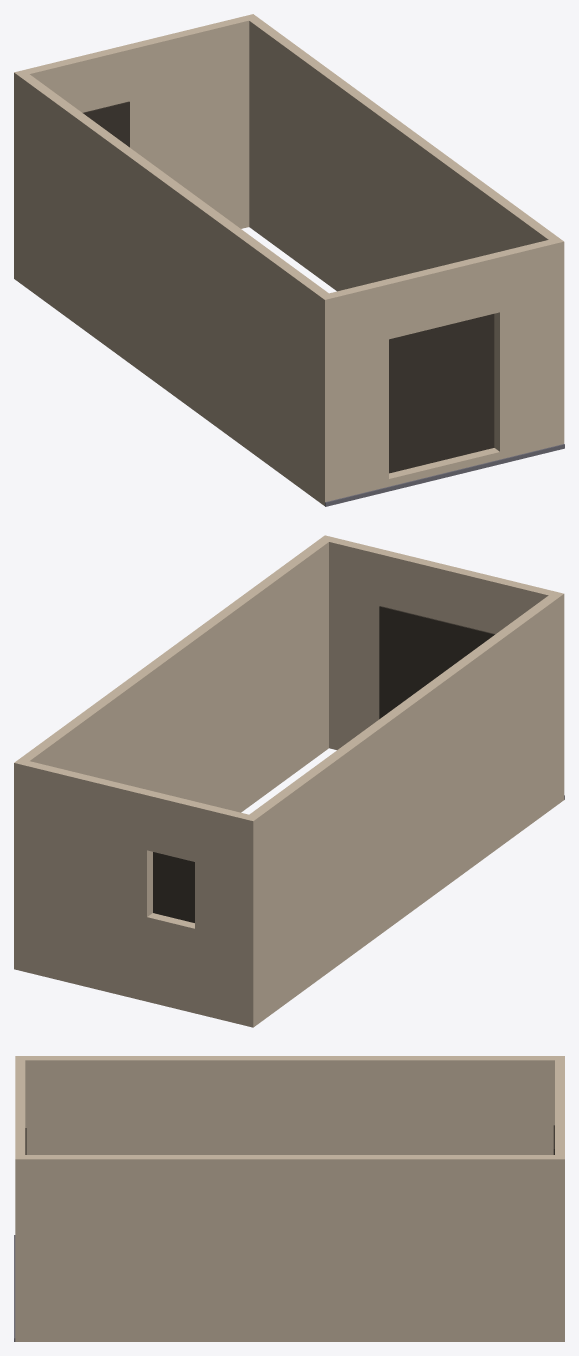
File: SM_Floor_NarrowUpperBalcony_Cream_364_Back_01.gltf
3 renders of one model, top to bottom at view 1: azimuth 30°, elevation 25°; view 2: azimuth 150°, elevation 25°; view 3: azimuth 270°, elevation 25°, orthographic. The views are drawn at different scales.
Visible parts, largest first — view 1: SM_Floor_NarrowUpperBalcony_Cream_364_Back_01; view 2: SM_Floor_NarrowUpperBalcony_Cream_364_Back_01; view 3: SM_Floor_NarrowUpperBalcony_Cream_364_Back_01.
Part boxes in pixels (x1=…): SM_Floor_NarrowUpperBalcony_Cream_364_Back_01: x1=14, y1=14, x2=564, y2=506; SM_Floor_NarrowUpperBalcony_Cream_364_Back_01: x1=14, y1=535, x2=564, y2=1027; SM_Floor_NarrowUpperBalcony_Cream_364_Back_01: x1=14, y1=1056, x2=564, y2=1341.
Bounding box in the file's own units: 3.64 × 3 × 8.21.
Materials: 1 (1 with a texture image).
